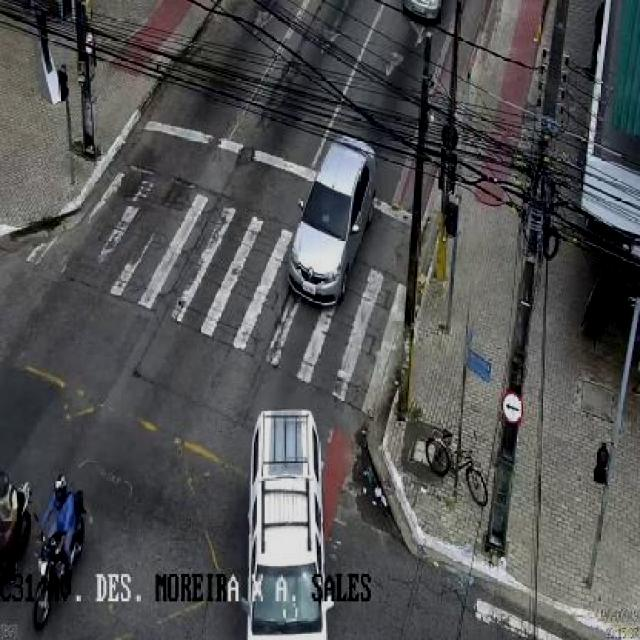Car: (239, 406, 339, 640), (286, 135, 379, 308)
Cycle: (31, 500, 88, 629), (424, 426, 490, 507), (0, 481, 33, 581)
